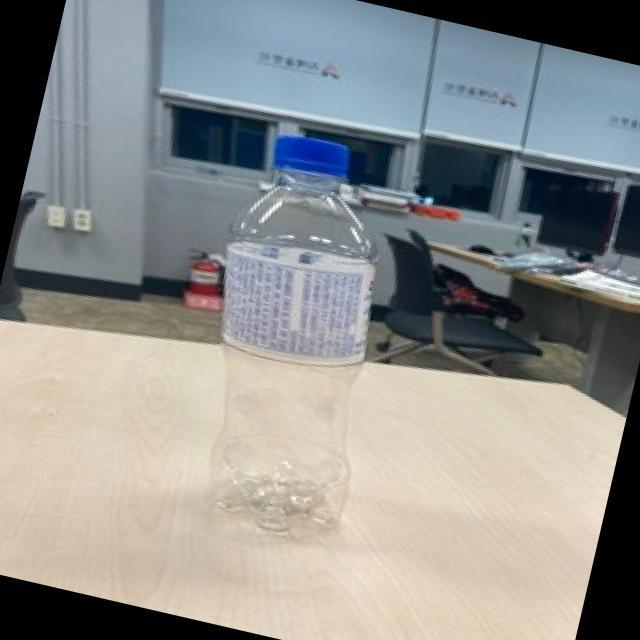good: (155, 108, 430, 570)
